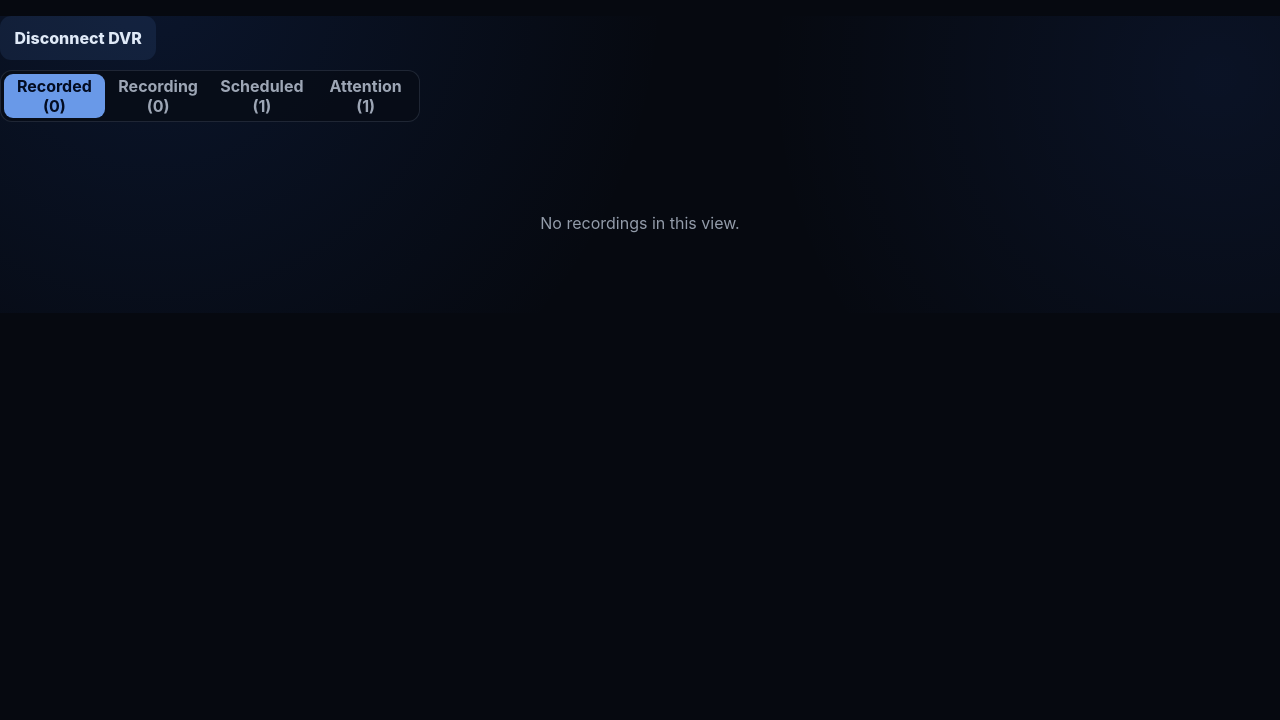
DVR trash action › uses the same confirmed trash action for attention rows and keeps scheduled cancellation as text
Click the button "Attention (1)".
click(366, 96)  # box [315,74,416,118]
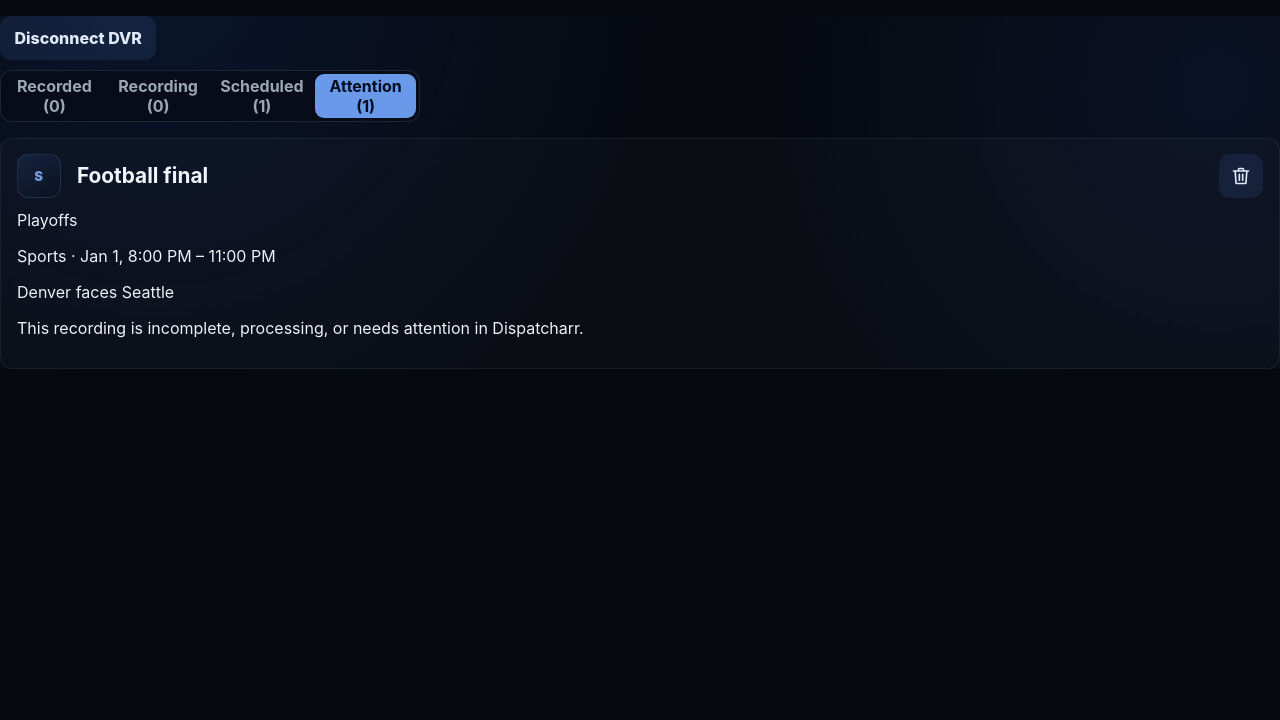
Click the button named "Delete recording: Football final".
click(1241, 176)  # box [1219,154,1263,198]
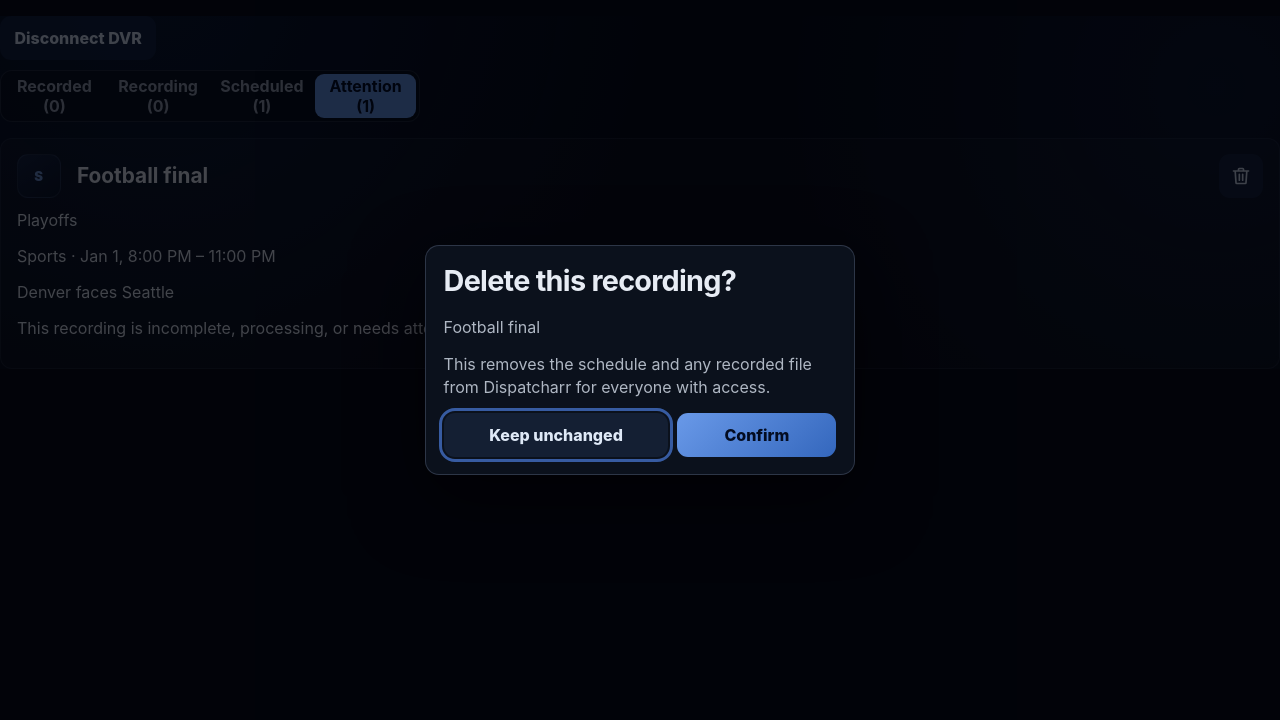
Check: the dialog "Delete this recording?" is shown, box [425,245,855,475]
Click the button "Keep unchanged".
click(556, 435)  # box [444,413,668,457]
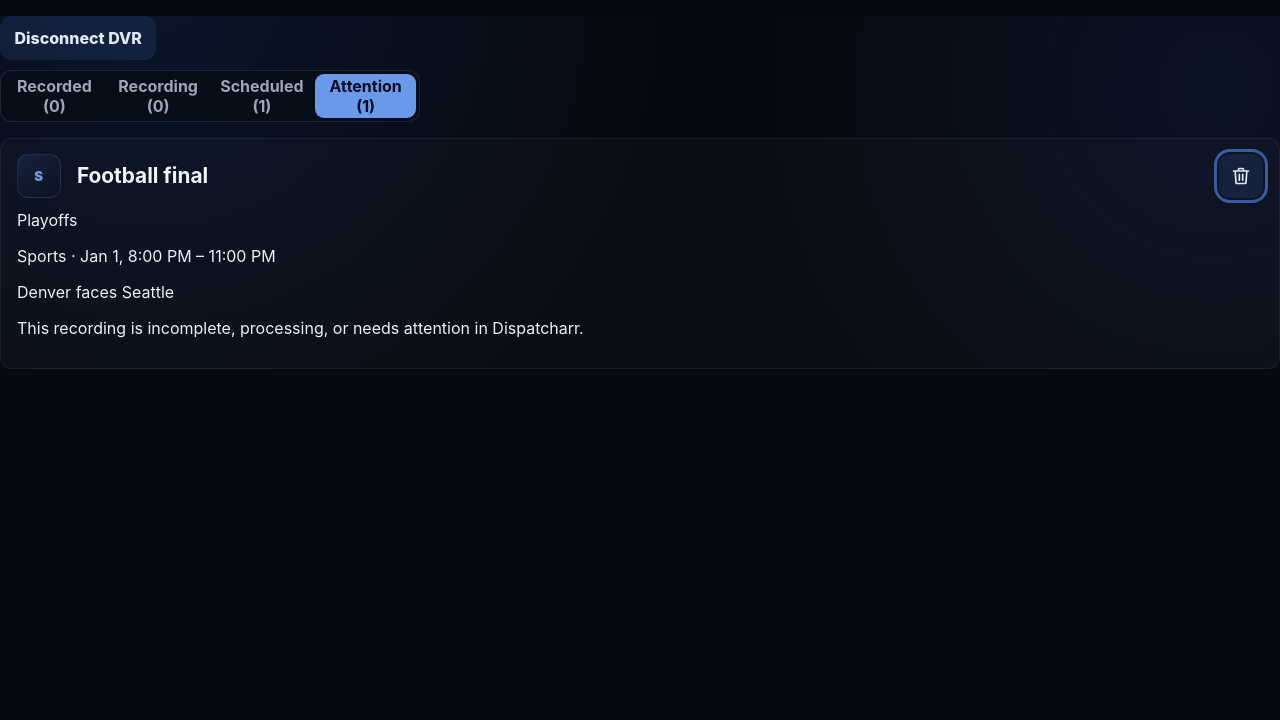
Click the button "Scheduled (1)".
click(262, 96)  # box [212,74,312,118]
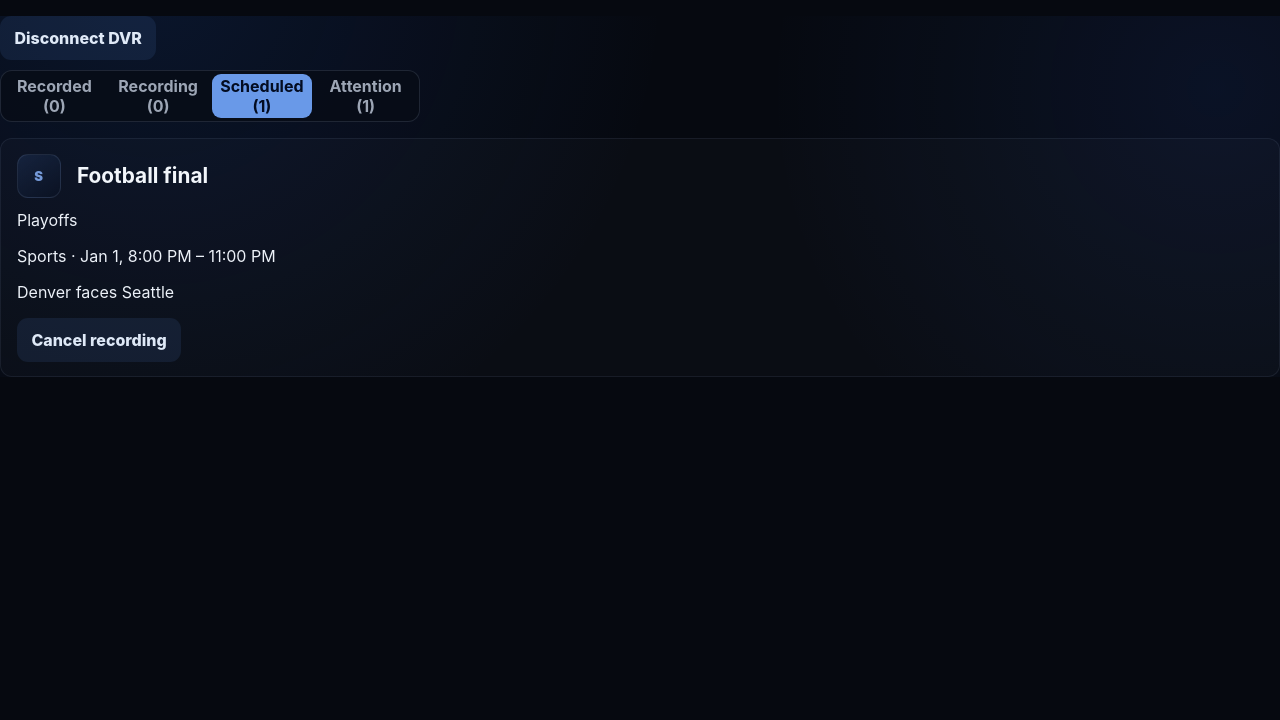
Click the button "Cancel recording".
click(99, 340)  # box [17,318,181,362]
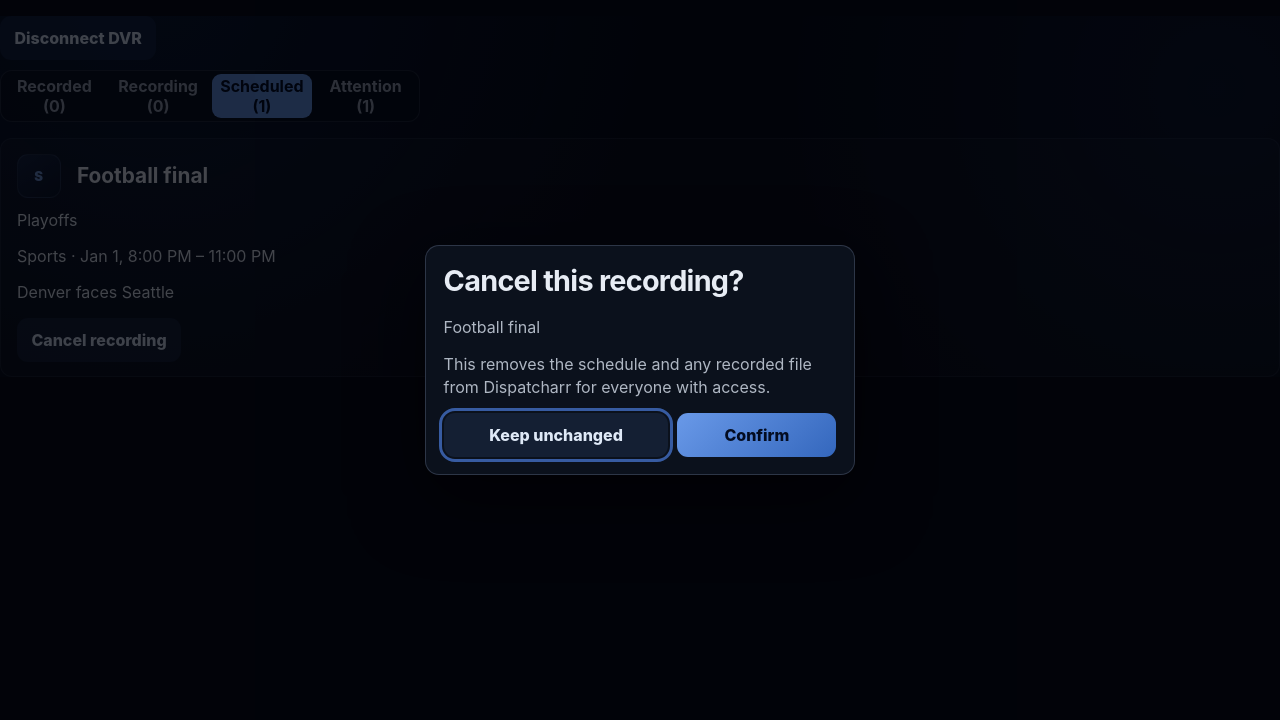
Check: the dialog "Cancel this recording?" is shown, box [425,245,855,475]
